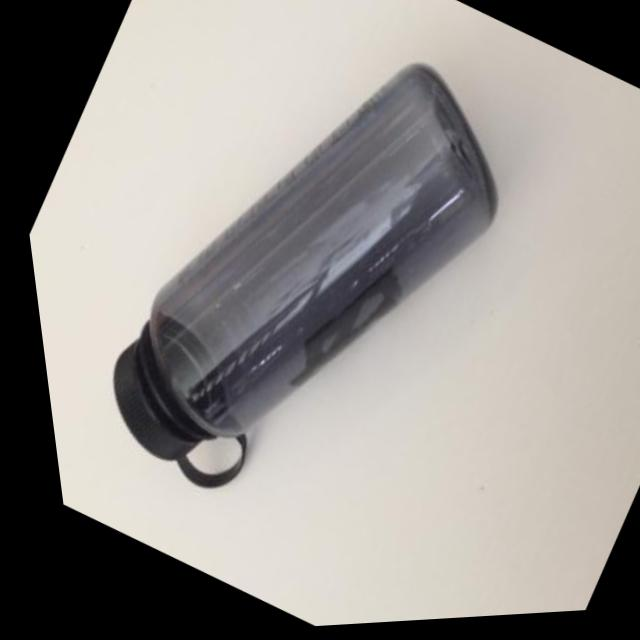plastic: (17, 0, 593, 596)
